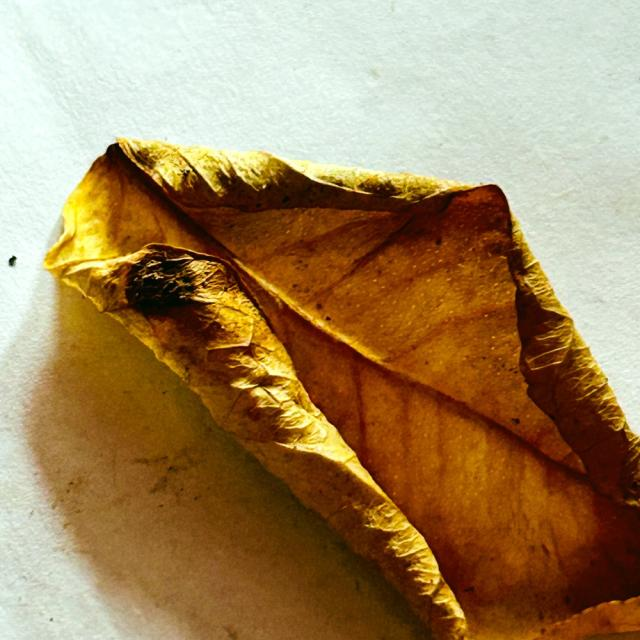DryLeaf_Lemon: (44, 139, 639, 639)
